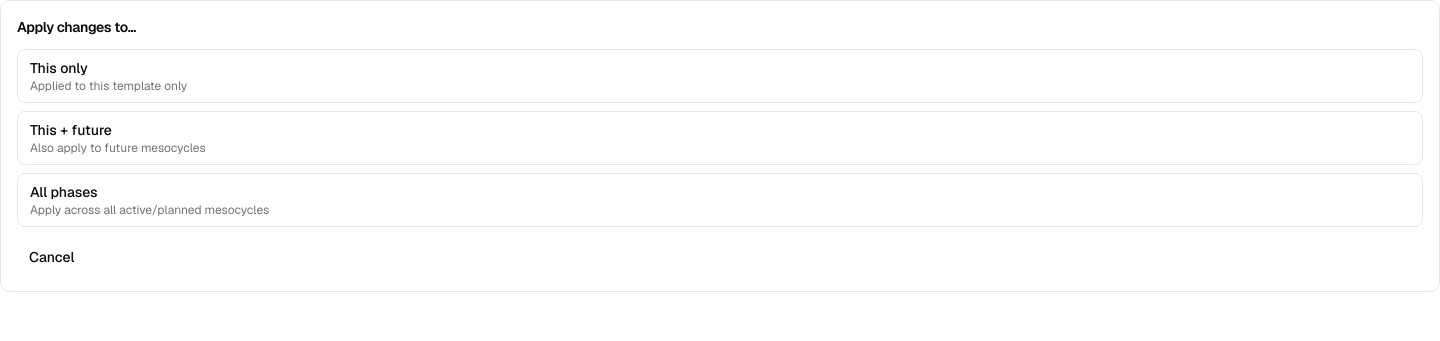
it: SlotCascadeScopeSelector › error handling › shows error when preview fetch fails
Step 1. Click the text "All phases" → (64, 192), box [30,182,98,202]
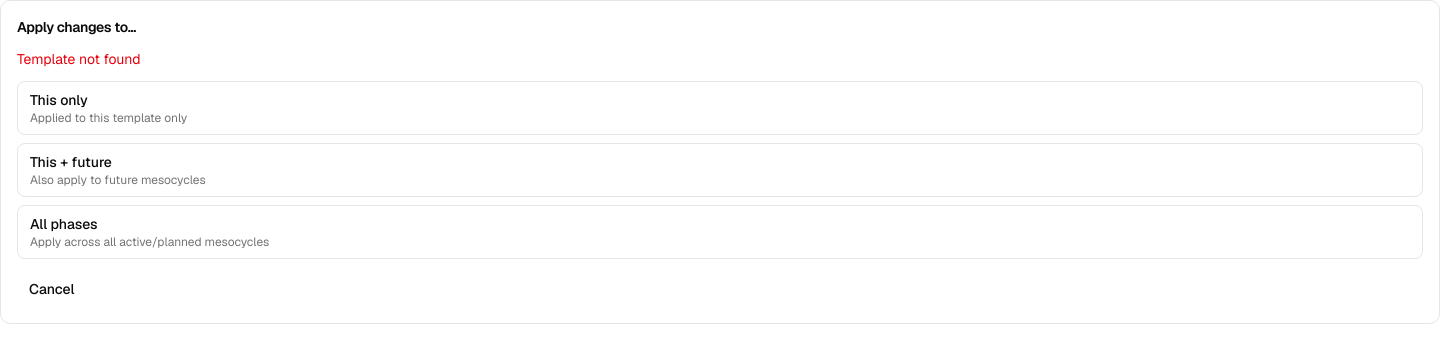
Check: the text "Template not found" is shown, box [17,50,141,68]
